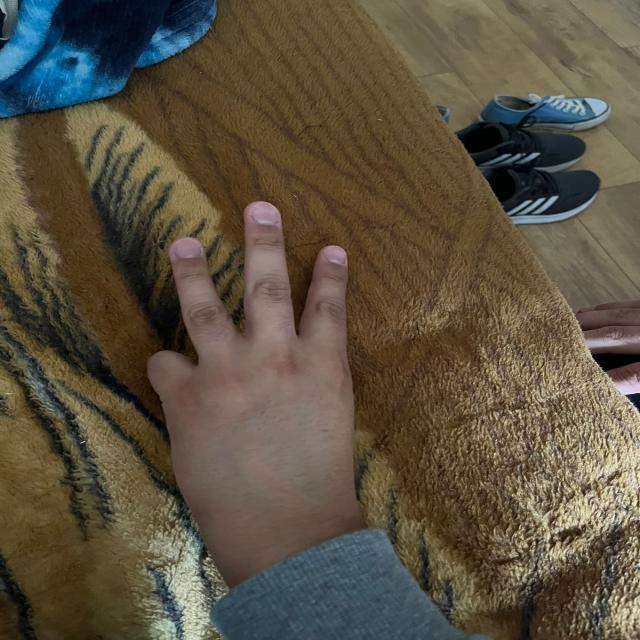W: (146, 194, 366, 528)
